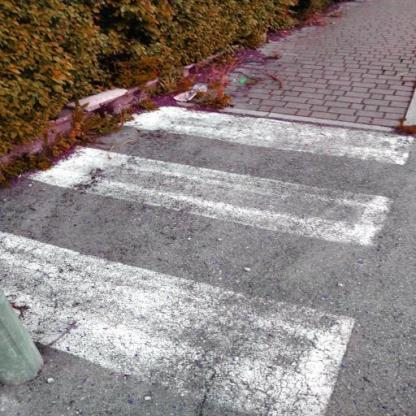crosswalk: (11, 102, 414, 251)
